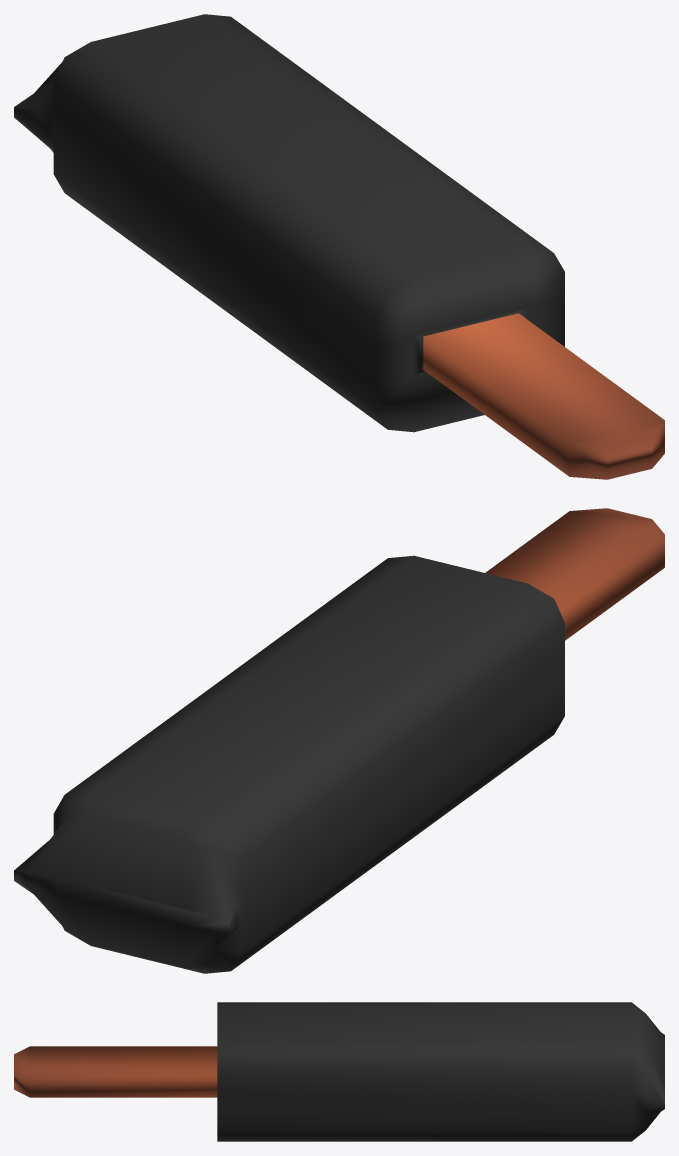
File: Popsicle.fbx
3 renders of one model, top to bottom at view 1: azimuth 30°, elevation 25°; view 2: azimuth 150°, elevation 25°; view 3: azimuth 270°, elevation 25°, orthographic. The views are drawn at different scales.
Parts seen in each view (by area): view 1: Popsicle; view 2: Popsicle; view 3: Popsicle.
Boxes of the visible parts, x1,y1,x2,y2 form: Popsicle: (14, 14, 664, 479); Popsicle: (14, 508, 664, 973); Popsicle: (14, 1002, 664, 1141).
Bounding box in the file's own units: 61.71 × 42 × 252.
